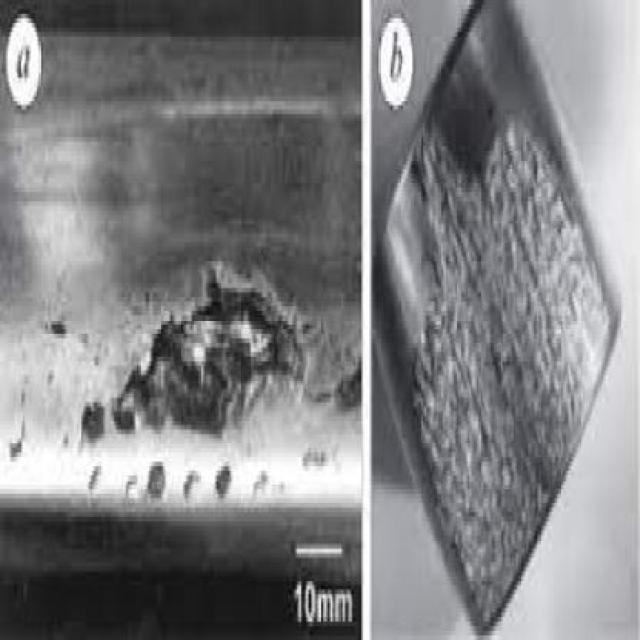defective: (37, 174, 389, 617)
